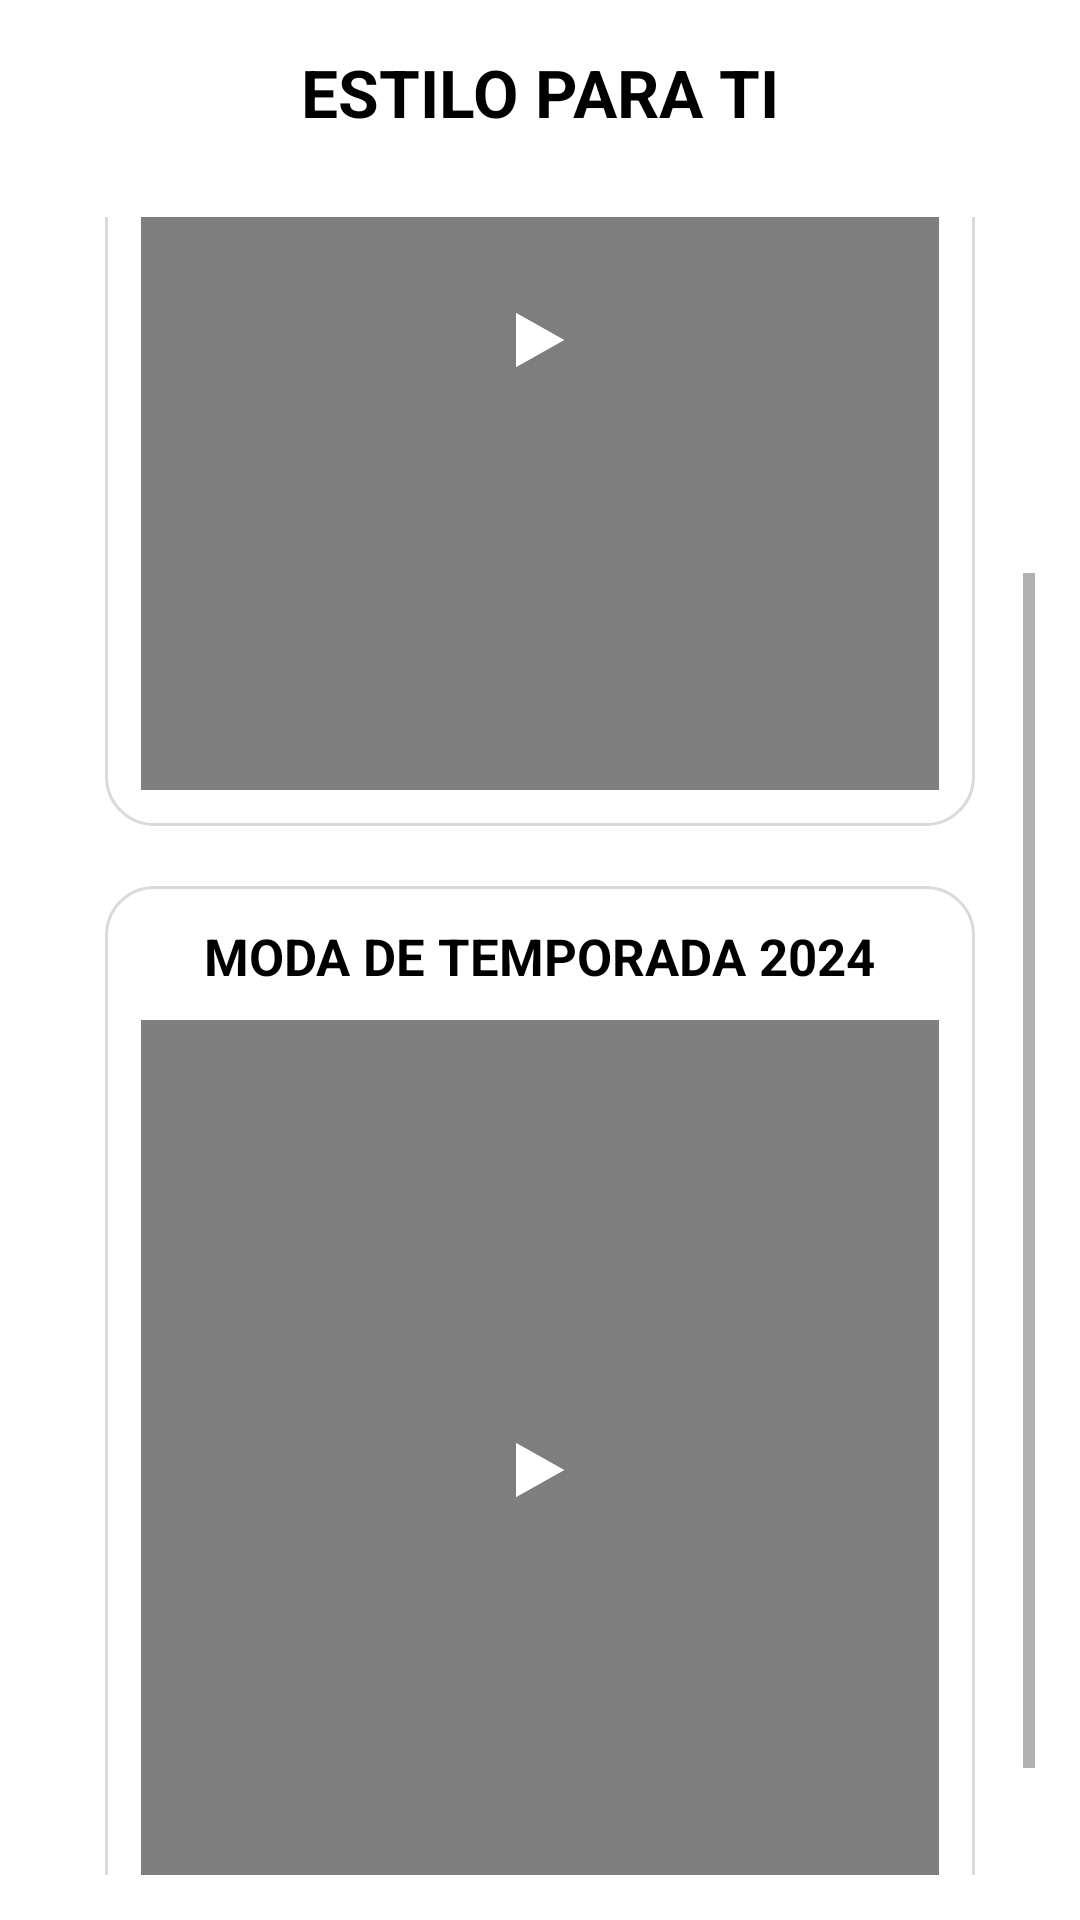

Screen size 1080 x 1920. Icon name, then its box in pixels as (x1, y1, x2, y2):
play: (516, 313, 564, 367), (516, 1443, 564, 1497)
